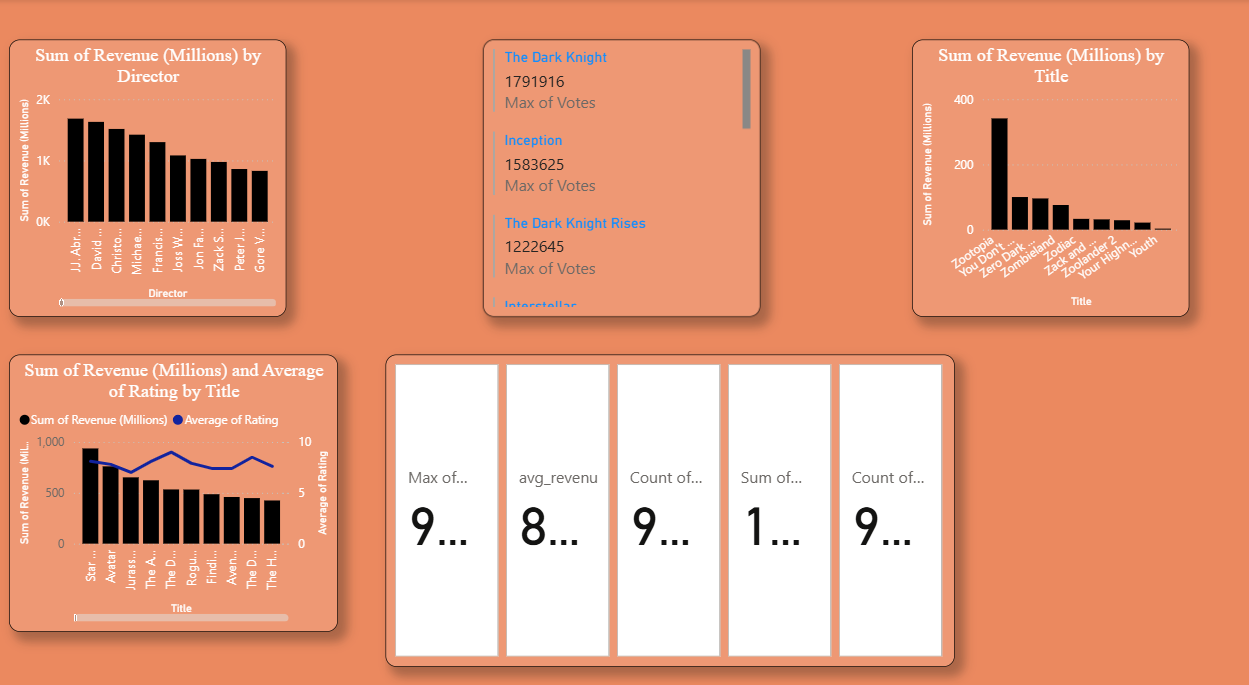

This screenshot's page, from the dashboard's own definition file:
{"tool":"powerbi","page":{"name":"Page 5","canvas":[1280,720],"ordinal":4},"visuals":[{"type":"clusteredColumnChart","fields":{"Y":["Sum(IMDB-Movie-Data.Revenue (Millions))"],"Category":["IMDB-Movie-Data.Director"]},"box":[21.7,41,279.9,279.9],"z":0},{"type":"multiRowCard","fields":{"Values":["Max(IMDB-Movie-Data.Votes)","IMDB-Movie-Data.Title"]},"box":[499.5,41.2,279.9,279.9],"z":1000},{"type":"clusteredColumnChart","fields":{"Y":["Sum(IMDB-Movie-Data.Revenue (Millions))"],"Category":["IMDB-Movie-Data.Title"]},"box":[933.1,41.2,279.9,279.9],"z":2000},{"type":"lineStackedColumnComboChart","fields":{"Y":["Sum(IMDB-Movie-Data.Revenue (Millions))"],"Category":["IMDB-Movie-Data.Title"],"Y2":["Avg(IMDB-Movie-Data.Rating)"]},"box":[22,359.5,332.1,279.9],"z":3000},{"type":"cardVisual","fields":{"Data":["Max(IMDB-Movie-Data.Revenue (Millions))","IMDB-Movie-Data.avg_revenu","Count(IMDB-Movie-Data.Actors)","Sum(IMDB-Movie-Data.Votes)","Count(IMDB-Movie-Data.Title)"]},"box":[400.6,359.1,574.5,315.6],"z":4000}]}

Visuals, with their boxes in screenshot pixels (x1, y1, x2, y2), scaled from the page's 1280x720 canvas onto the 1249x685 screenshot:
clusteredColumnChart - Sum(IMDB-Movie-Data.Revenue (Millions)) x IMDB-Movie-Data.Director: BBox(21, 39, 294, 305)
multiRowCard - Max(IMDB-Movie-Data.Votes) x IMDB-Movie-Data.Title: BBox(487, 39, 761, 305)
clusteredColumnChart - Sum(IMDB-Movie-Data.Revenue (Millions)) x IMDB-Movie-Data.Title: BBox(911, 39, 1184, 305)
lineStackedColumnComboChart - Sum(IMDB-Movie-Data.Revenue (Millions)) x IMDB-Movie-Data.Title: BBox(21, 342, 346, 608)
cardVisual - Max(IMDB-Movie-Data.Revenue (Millions)) x IMDB-Movie-Data.avg_revenu: BBox(391, 342, 951, 642)
